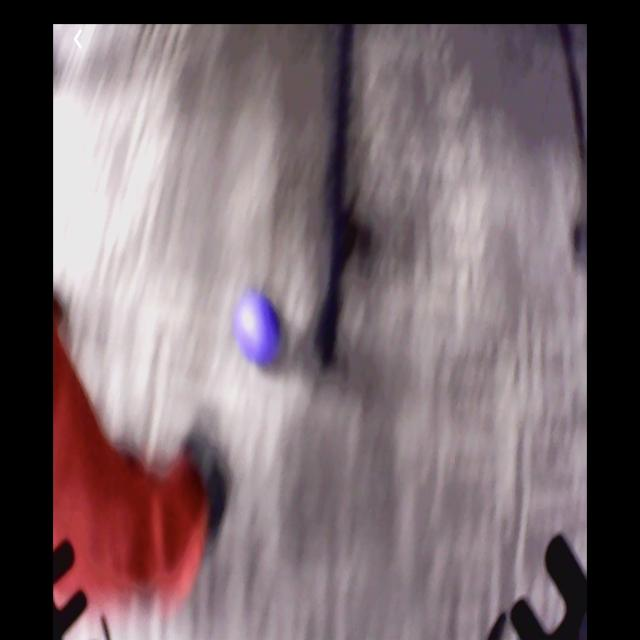ball: (233, 293, 281, 360)
